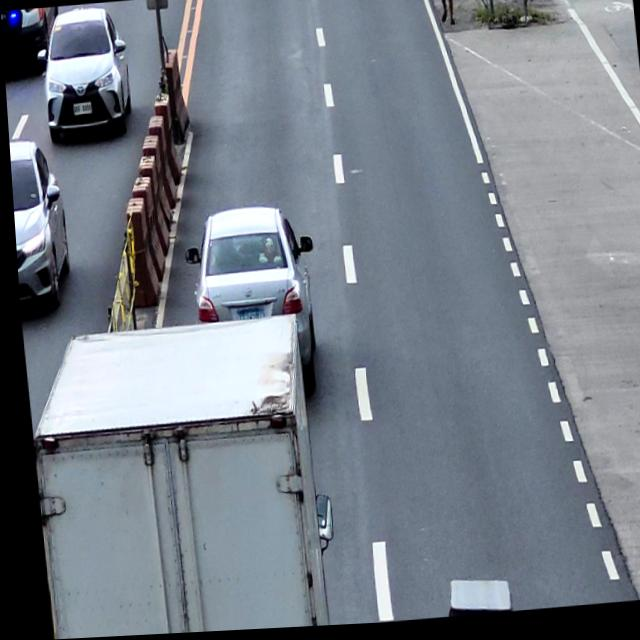Car: (176, 203, 321, 401), (32, 4, 133, 145), (7, 132, 69, 309)
License-Plate: (232, 308, 260, 323), (70, 102, 91, 116)
Truck: (17, 312, 334, 640)
